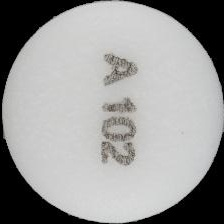43063-388: (0, 0, 224, 224)
